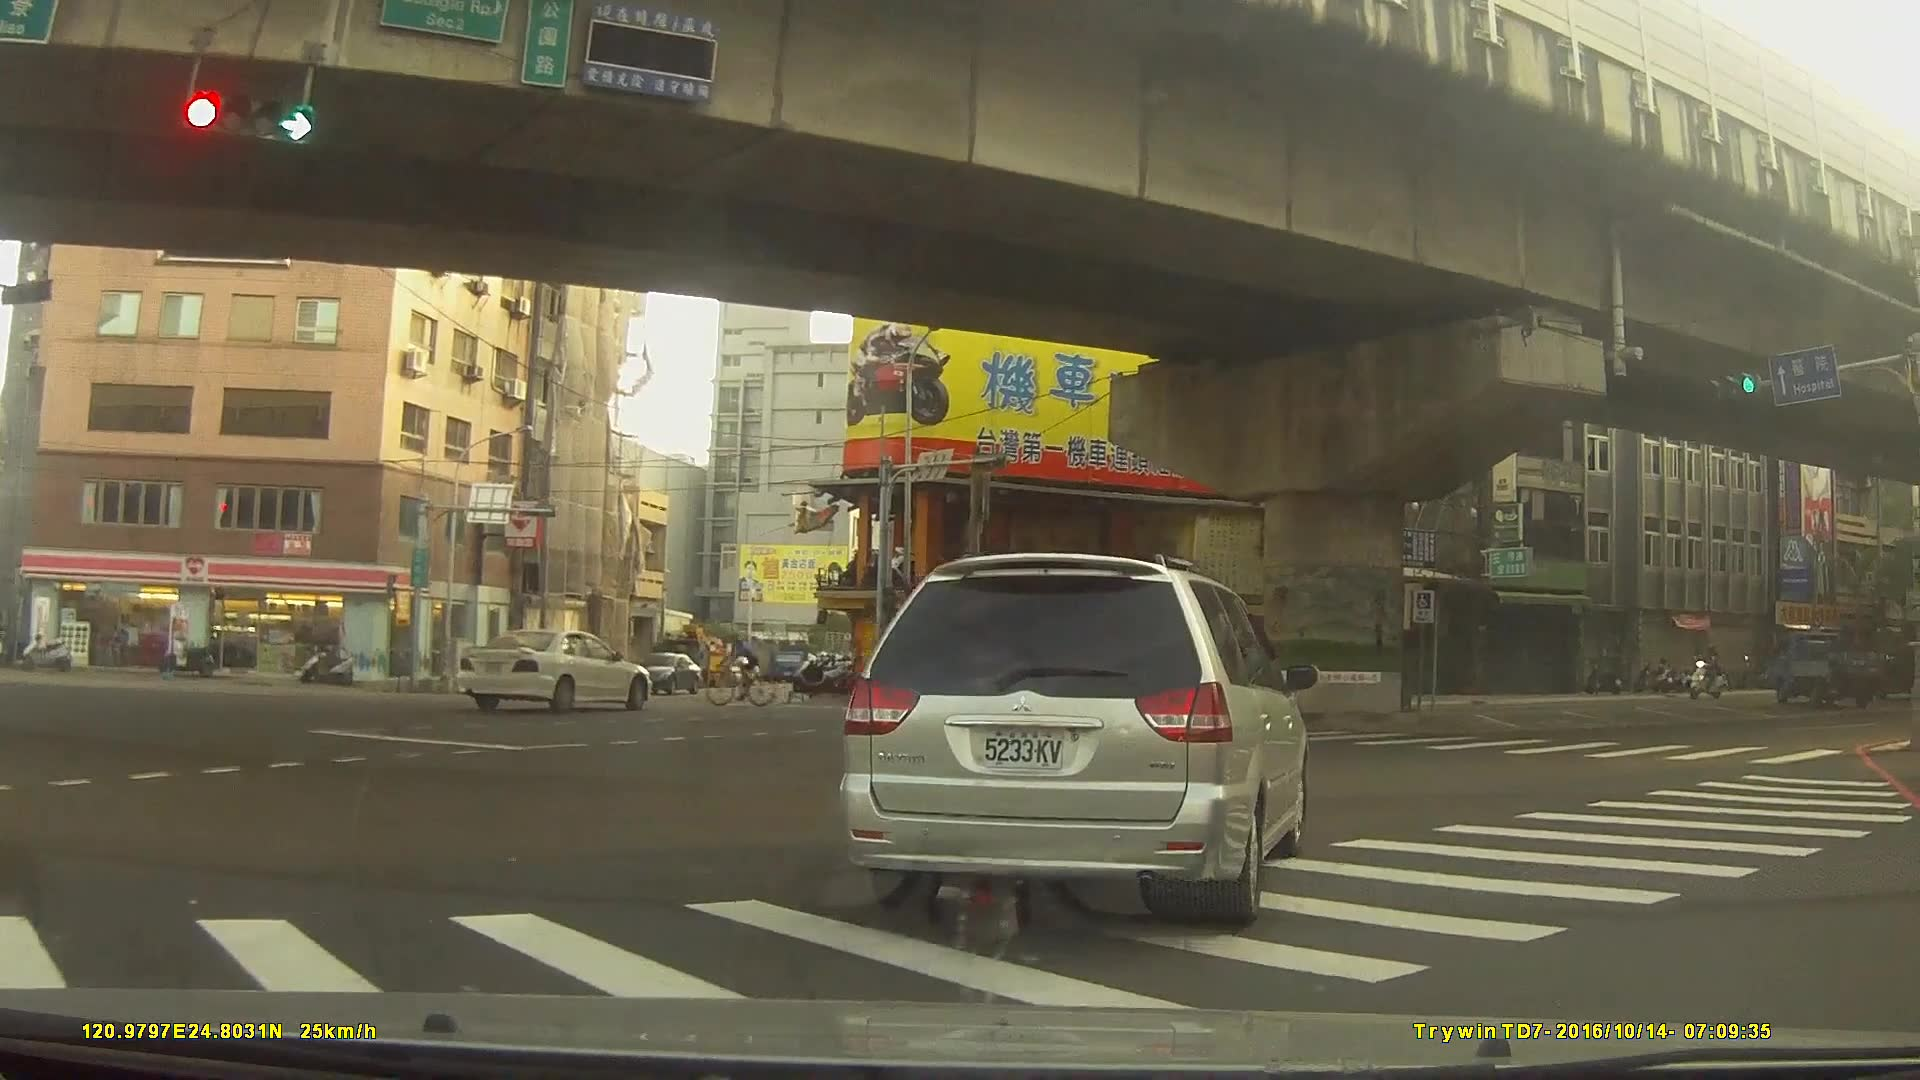rider: (705, 631, 778, 705), (1689, 645, 1728, 698)
vehicle: (838, 549, 1309, 930), (457, 624, 651, 712), (1766, 629, 1886, 710), (631, 650, 703, 692), (720, 652, 760, 683)
